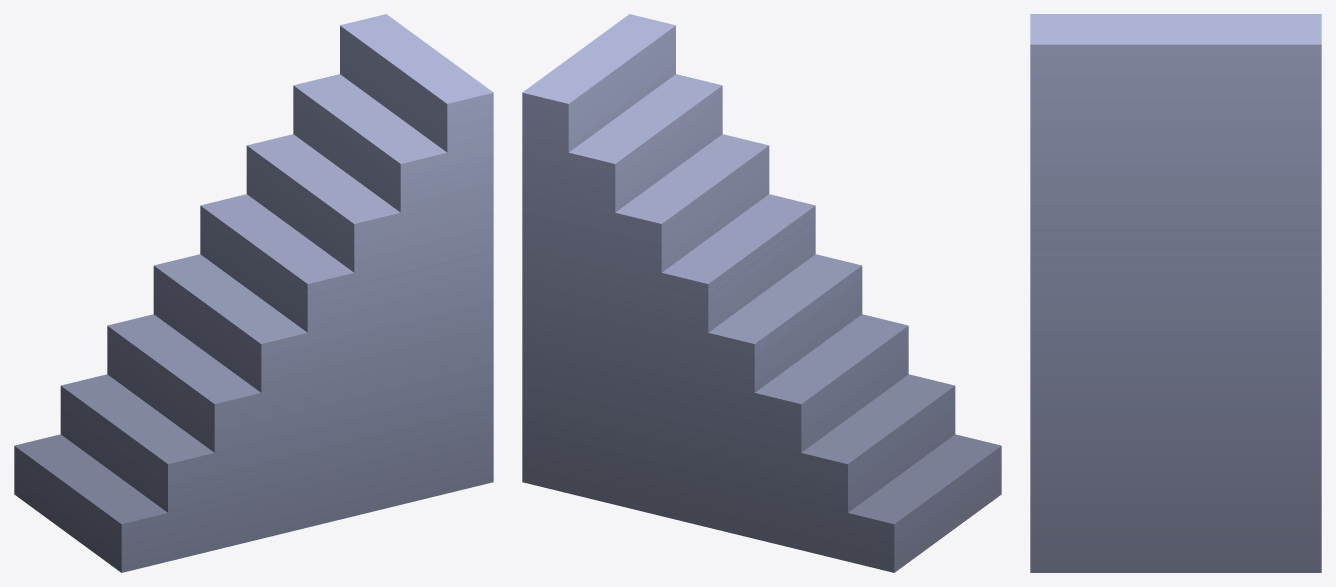
The model's file is stairs-small-narrow.fbx.
3 views of the same model, side by side, from view 1: azimuth 30°, elevation 25°; view 2: azimuth 150°, elevation 25°; view 3: azimuth 270°, elevation 25° (orthographic). The views are drawn at different scales.
Parts seen in each view (by area): view 1: stairs-small-narrow; view 2: stairs-small-narrow; view 3: stairs-small-narrow.
Part boxes in pixels (x1,y1,x2,y2): stairs-small-narrow: (14, 14, 493, 572); stairs-small-narrow: (522, 14, 1001, 572); stairs-small-narrow: (1030, 14, 1321, 572).
Bounding box in the file's own units: 100 × 100 × 50.
